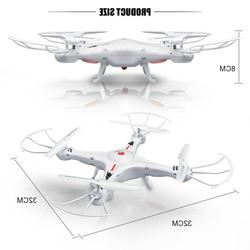drone: (18, 110, 236, 219), (6, 26, 242, 84)
